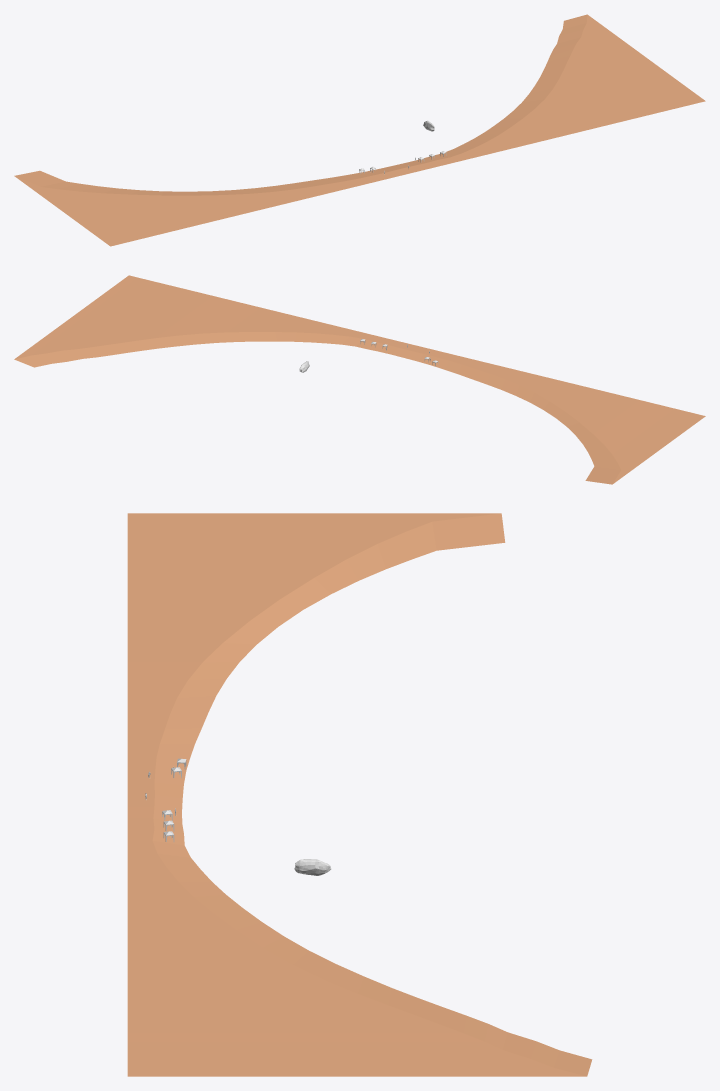
The model's file is mar_comum.fbx.
3 renders of one model, top to bottom at view 1: azimuth 30°, elevation 25°; view 2: azimuth 150°, elevation 25°; view 3: azimuth 270°, elevation 25°, orthographic. The views are drawn at different scales.
Visible parts, largest first — view 1: praia areia; view 2: praia areia; view 3: praia areia.
Boxes of the visible parts, x1,y1,x2,y2 form: praia areia: [14, 14, 705, 246]; praia areia: [14, 275, 705, 484]; praia areia: [127, 513, 592, 1076].
Bounding box in the file's own units: 31212 × 599 × 10884.
